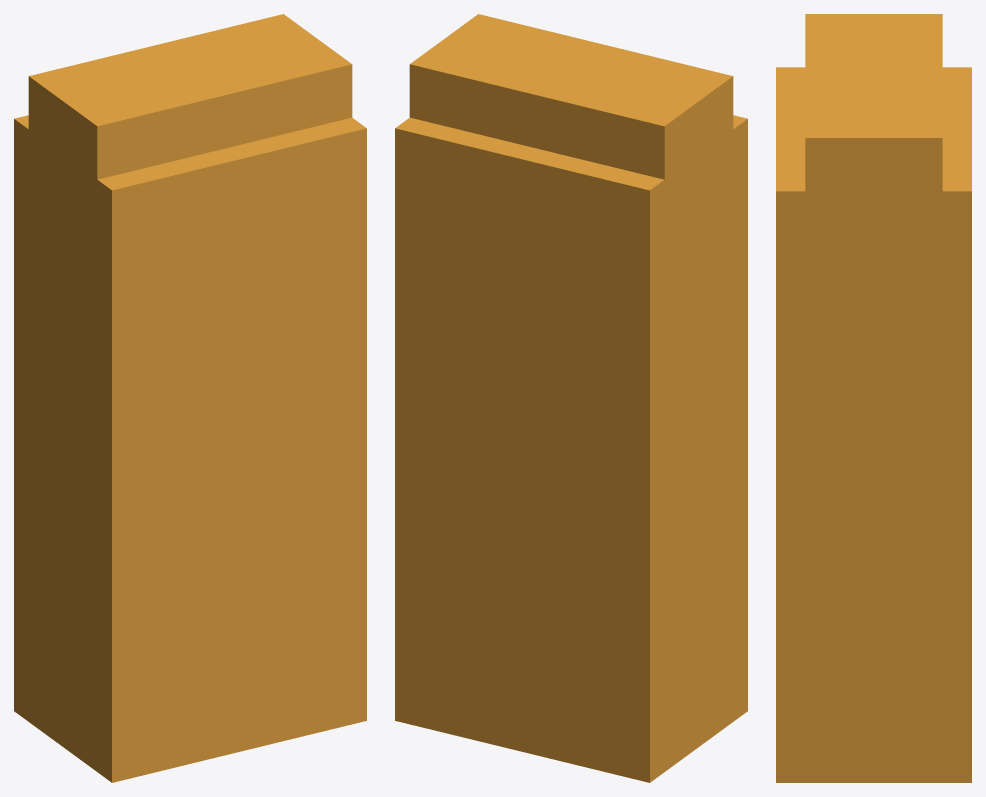
The model's file is g_juice_carton.glb.
The picture shows the model from 3 angles, left to right: view 1: azimuth 30°, elevation 25°; view 2: azimuth 150°, elevation 25°; view 3: azimuth 270°, elevation 25°; orthographic projection.
Visible parts, largest first — view 1: g_juice_carton; view 2: g_juice_carton; view 3: g_juice_carton.
Boxes of the visible parts, x1,y1,x2,y2 form: g_juice_carton: (14,14,366,782); g_juice_carton: (395,14,747,782); g_juice_carton: (776,14,971,782).
Size of the model in its own units: 0.09 by 0.218 by 0.06.
